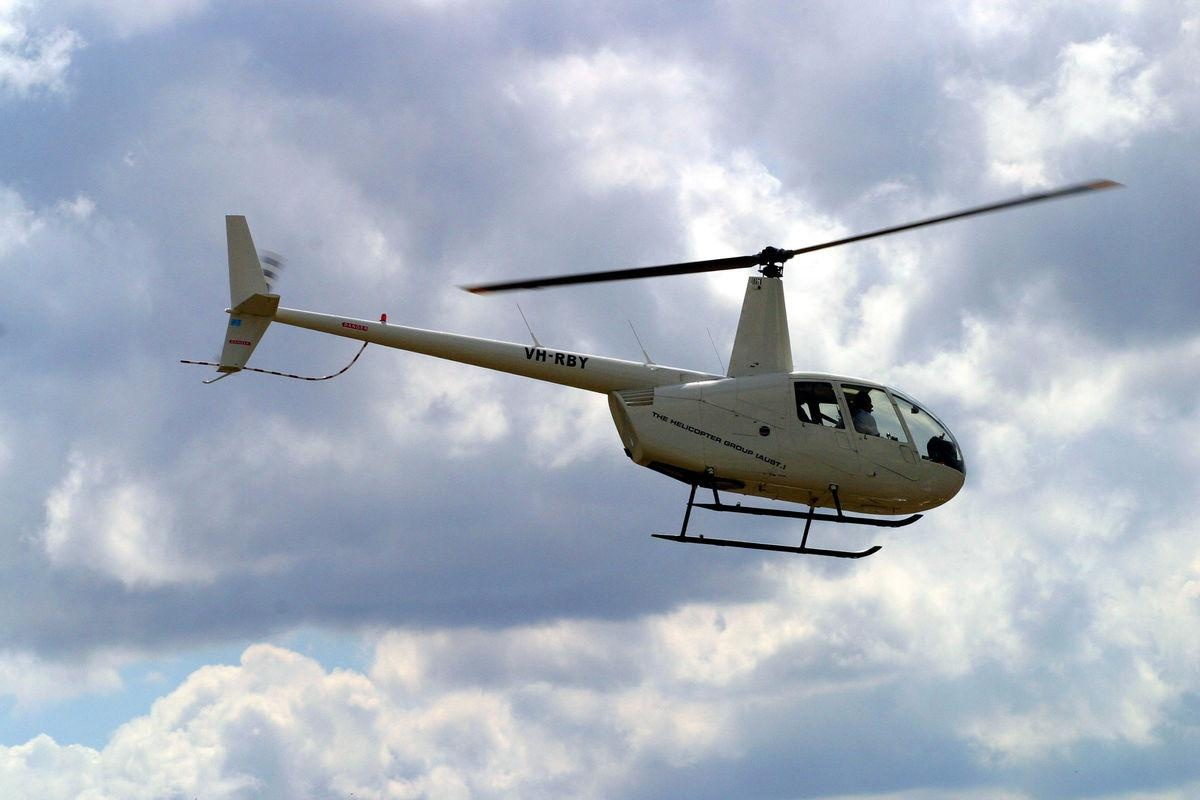airplane: (214, 174, 1153, 548)
